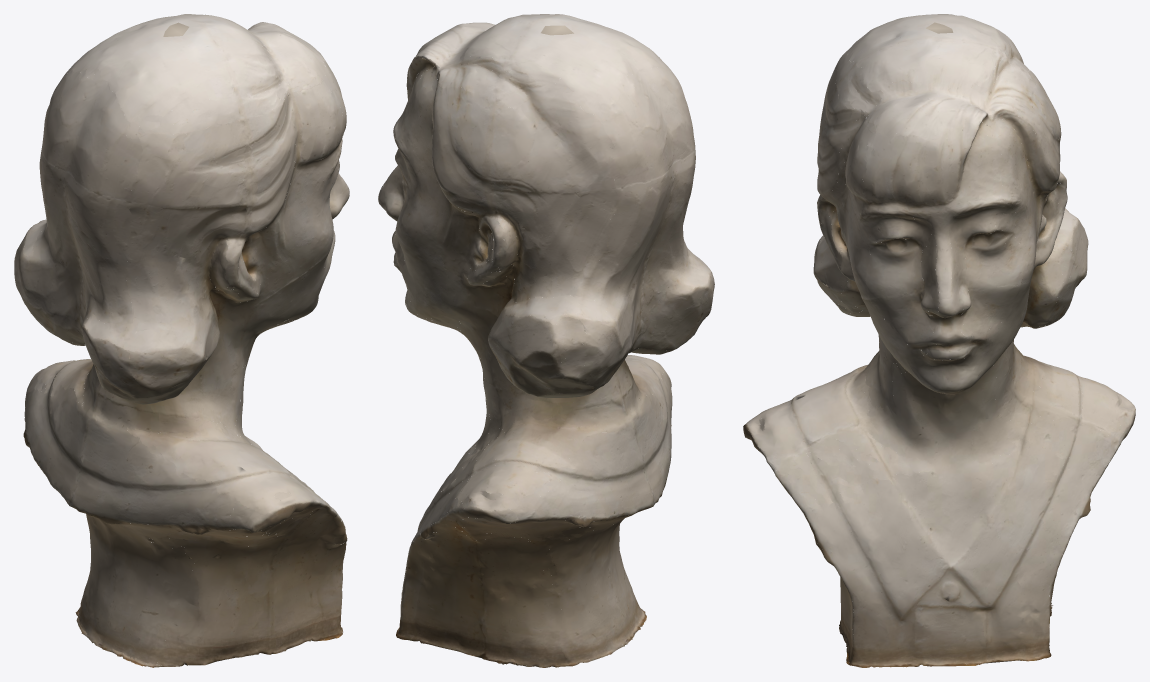
The model's file is hyesuk.glb.
3 views of the same model, side by side, from view 1: azimuth 30°, elevation 25°; view 2: azimuth 150°, elevation 25°; view 3: azimuth 270°, elevation 25° (orthographic). The views are drawn at different scales.
Parts seen in each view (by area): view 1: Mesh_0_Part_0; view 2: Mesh_0_Part_0; view 3: Mesh_0_Part_0.
Boxes of the visible parts, left/top/right/bottom form: Mesh_0_Part_0: left=14, top=14, right=349, bottom=667; Mesh_0_Part_0: left=378, top=14, right=714, bottom=667; Mesh_0_Part_0: left=743, top=14, right=1135, bottom=667.
Bounding box in the file's own units: 2.21 × 4.32 × 2.64.
Materials: 1 (1 with a texture image).
